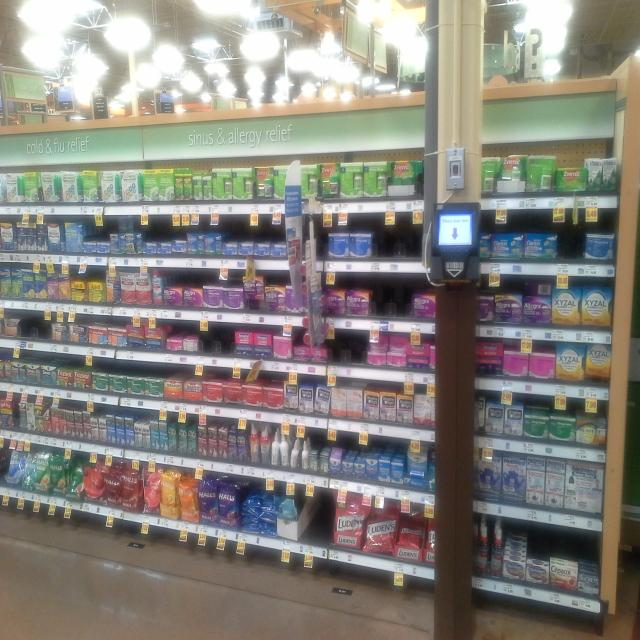empty: (288, 490, 338, 547), (375, 214, 420, 270), (368, 280, 410, 327), (549, 219, 590, 264), (191, 325, 238, 358), (331, 333, 366, 366), (16, 308, 49, 342)
